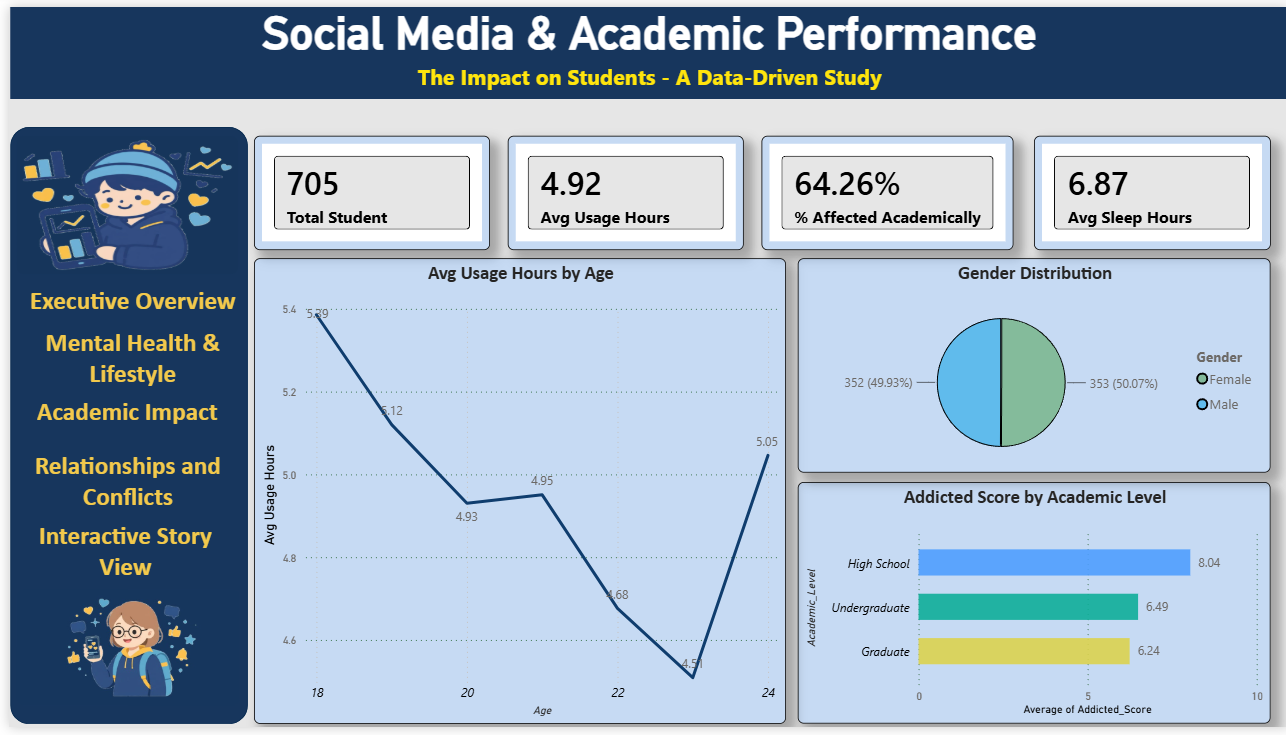

The page's visual inventory and layout, read from the dashboard file:
{"tool":"powerbi","page":{"name":"Executive Overview","canvas":[1280,720],"ordinal":0},"visuals":[{"type":"cardVisual","fields":{"Data":["Student Details.Total Student"]},"box":[244.9,129.1,236,114],"z":0},{"type":"cardVisual","fields":{"Data":["Platform Details.Avg Usage Hours"]},"box":[498.3,129.1,236,114],"z":1000},{"type":"cardVisual","fields":{"Data":["Platform Details.% Affected Academically"]},"box":[752.8,129.1,252,114],"z":2000},{"type":"cardVisual","fields":{"Data":["Student Details.Avg Sleep Hours"]},"box":[1025.5,129.1,236.5,114],"z":3000},{"type":"clusteredBarChart","title":"Addicted Score by Academic Level","fields":{"Category":["Student Details.Academic_Level"],"Y":["Avg(Student Details.Addicted_Score)"]},"box":[789,475.3,472.9,241.3],"z":4000},{"type":"lineChart","fields":{"Category":["Student Details.Age"],"Y":["Platform Details.Avg Usage Hours"]},"box":[244.9,250.9,532,465.7],"z":5000},{"type":"pieChart","title":"Gender Distribution","fields":{"Category":["Student Details.Gender"],"Y":["CountNonNull(Student Details.Student_ID)"]},"box":[789,250.9,472.9,214.7],"z":6000},{"type":"actionButton","box":[0,0,100,40],"z":8000},{"type":"shape","box":[1.2,119.4,237.7,597.2],"z":9000},{"type":"actionButton","title":"Executive Overview","box":[7.2,277.5,232.8,42.2],"z":10000},{"type":"actionButton","title":"Mental Health & Lifestyle","box":[7.2,319.7,232.8,61.5],"z":11000},{"type":"image","box":[7.2,129.1,222,138.7],"z":12000},{"type":"actionButton","title":"Academic Impact","box":[3.6,388.5,229.2,44.6],"z":13000},{"type":"image","box":[7.2,582.7,223.2,115.8],"z":14000},{"type":"actionButton","title":"Relationships and Conflicts","box":[2.4,442.8,232.8,65.1],"z":15000},{"type":"actionButton","title":"Interactive Story View","box":[2.4,512.7,228,70],"z":16000},{"type":"textbox","title":"   Social Media & Academic Performance","box":[1.2,0,1278.8,91.7],"z":17000}]}

Visuals, with their boxes in screenshot pixels (x1, y1, x2, y2), scaled from the page's 1280x720 canvas onto the 1286x735 screenshot:
cardVisual - Student Details.Total Student: [246, 132, 483, 248]
cardVisual - Platform Details.Avg Usage Hours: [501, 132, 738, 248]
cardVisual - Platform Details.% Affected Academically: [756, 132, 1010, 248]
cardVisual - Student Details.Avg Sleep Hours: [1030, 132, 1268, 248]
"Addicted Score by Academic Level" clusteredBarChart: [793, 485, 1268, 732]
lineChart - Student Details.Age x Platform Details.Avg Usage Hours: [246, 256, 781, 732]
"Gender Distribution" pieChart: [793, 256, 1268, 475]
actionButton: [0, 0, 100, 41]
shape: [1, 122, 240, 732]
"Executive Overview" actionButton: [7, 283, 241, 326]
"Mental Health & Lifestyle" actionButton: [7, 326, 241, 389]
image: [7, 132, 230, 273]
"Academic Impact" actionButton: [4, 397, 234, 442]
image: [7, 595, 231, 713]
"Relationships and Conflicts" actionButton: [2, 452, 236, 518]
"Interactive Story View" actionButton: [2, 523, 231, 595]
"   Social Media & Academic Performance" textbox: [1, 0, 1285, 94]
